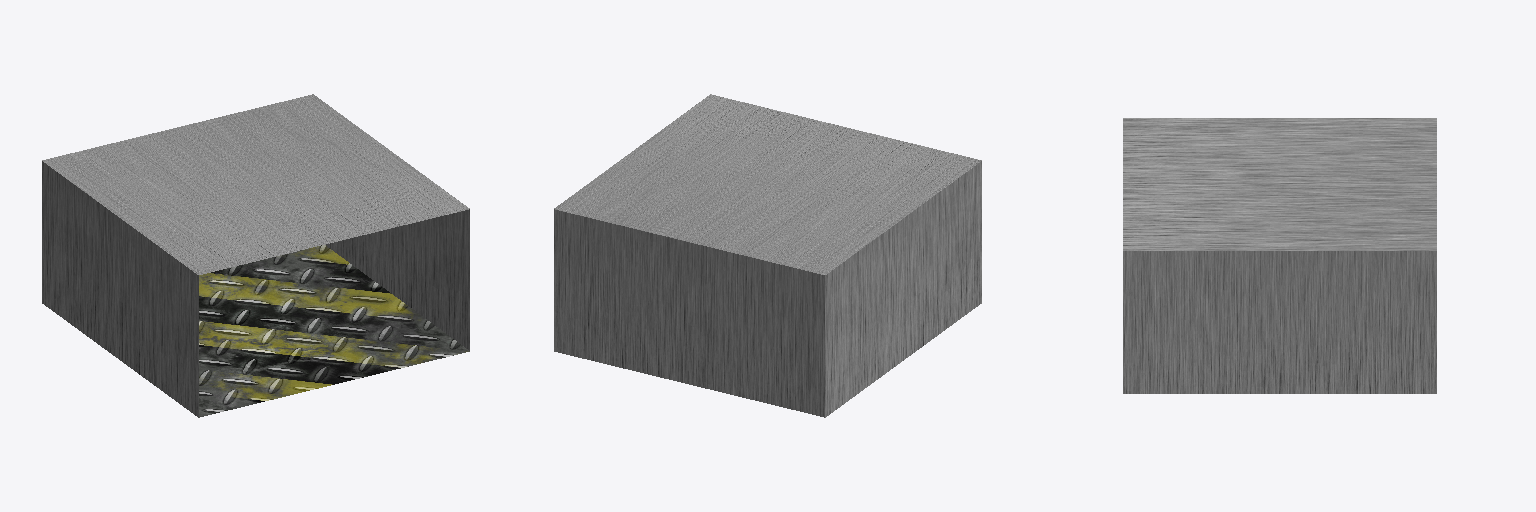
The picture shows the model from 3 angles: view 1: azimuth 30°, elevation 25°; view 2: azimuth 150°, elevation 25°; view 3: azimuth 270°, elevation 25°; orthographic projection.
Parts seen in each view (by area): view 1: roof_Plane.004, Floor_Plane, Wall3_Plane.005, wall1_Plane.002; view 2: roof_Plane.004, Wall2_Plane.003, Wall3_Plane.005; view 3: wall1_Plane.002, roof_Plane.004.
Boxes of the visible parts, x1=… form: roof_Plane.004: x1=42, y1=94, x2=469, y2=274; Floor_Plane: x1=199, y1=245, x2=469, y2=417; Wall3_Plane.005: x1=42, y1=161, x2=198, y2=417; wall1_Plane.002: x1=326, y1=209, x2=469, y2=350; roof_Plane.004: x1=554, y1=94, x2=981, y2=274; Wall2_Plane.003: x1=554, y1=209, x2=824, y2=417; Wall3_Plane.005: x1=825, y1=161, x2=981, y2=417; wall1_Plane.002: x1=1123, y1=251, x2=1436, y2=393; roof_Plane.004: x1=1123, y1=118, x2=1436, y2=250.
Size of the model in its own units: 20 by 10 by 20.
Materials: 2 (2 with a texture image).